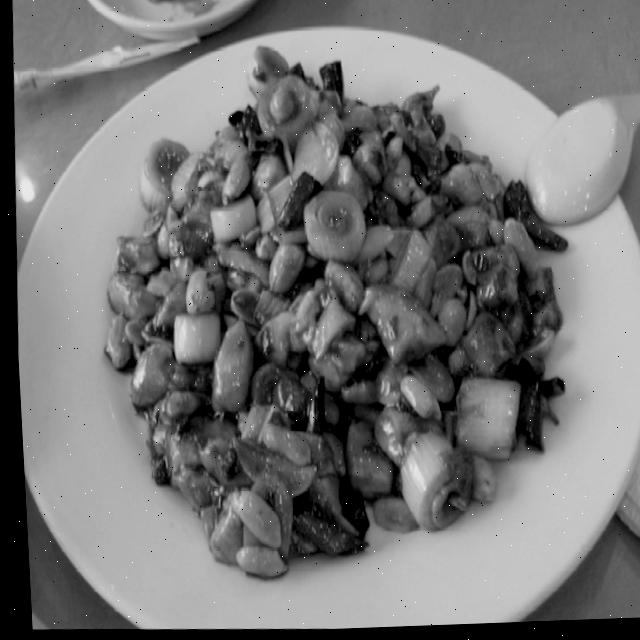鸡肉料理 含炸鸡: (76, 35, 608, 609)
